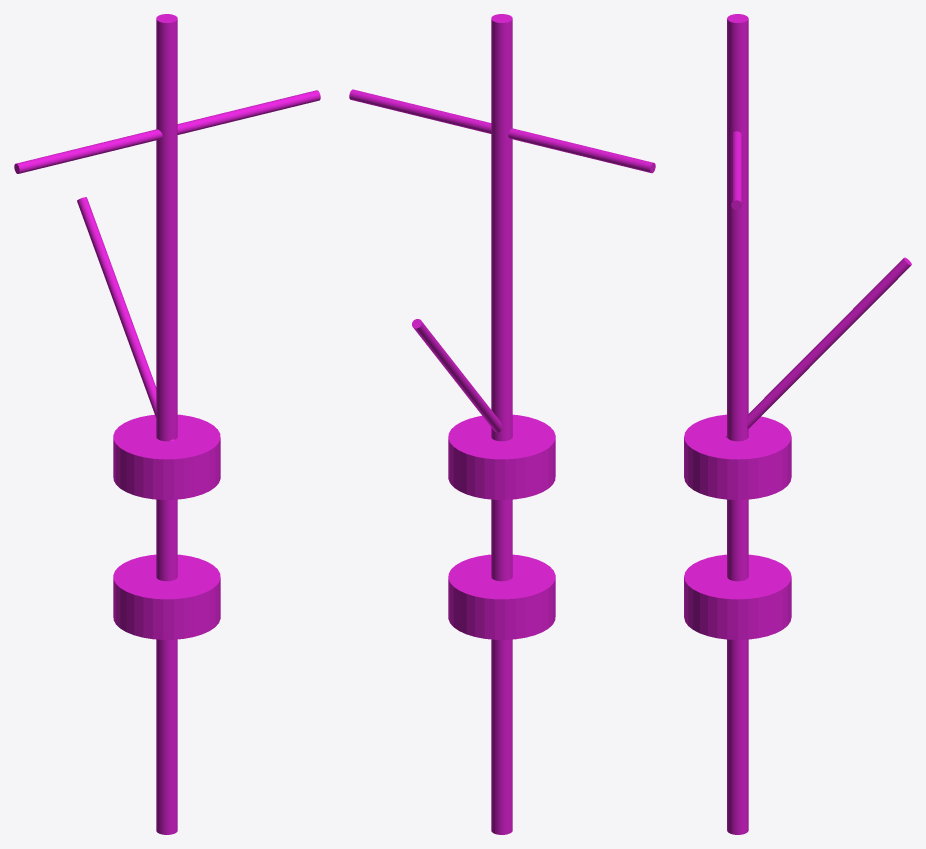
File: ship_real_1_mast.fbx
The picture shows the model from 3 angles, left to right: view 1: azimuth 30°, elevation 25°; view 2: azimuth 150°, elevation 25°; view 3: azimuth 270°, elevation 25°; orthographic projection.
Parts seen in each view (by area): view 1: Cylinder.004; view 2: Cylinder.004; view 3: Cylinder.004.
Boxes of the visible parts, left/top/right/bottom form: Cylinder.004: left=14, top=14, right=320, bottom=834; Cylinder.004: left=349, top=14, right=655, bottom=834; Cylinder.004: left=684, top=14, right=911, bottom=834.
Bounding box in the file's own units: 0.3879 × 1 × 0.2543.
